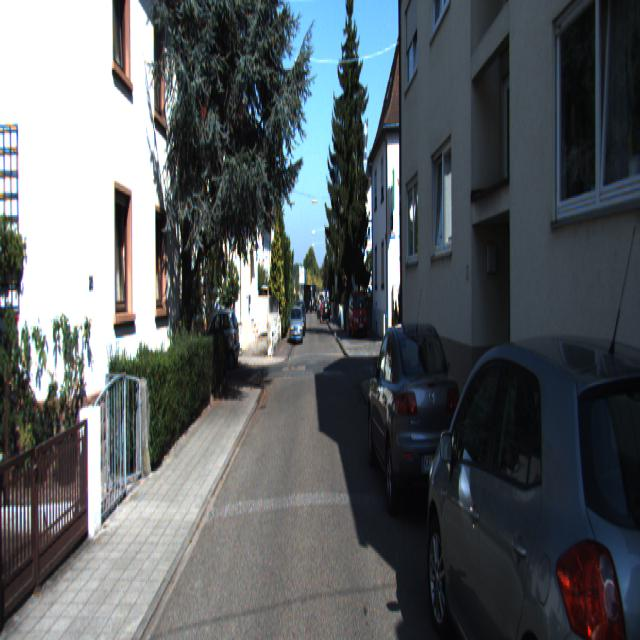Car: (422, 316, 640, 638), (366, 312, 464, 538), (198, 306, 241, 369), (348, 287, 368, 336), (290, 304, 303, 343)
